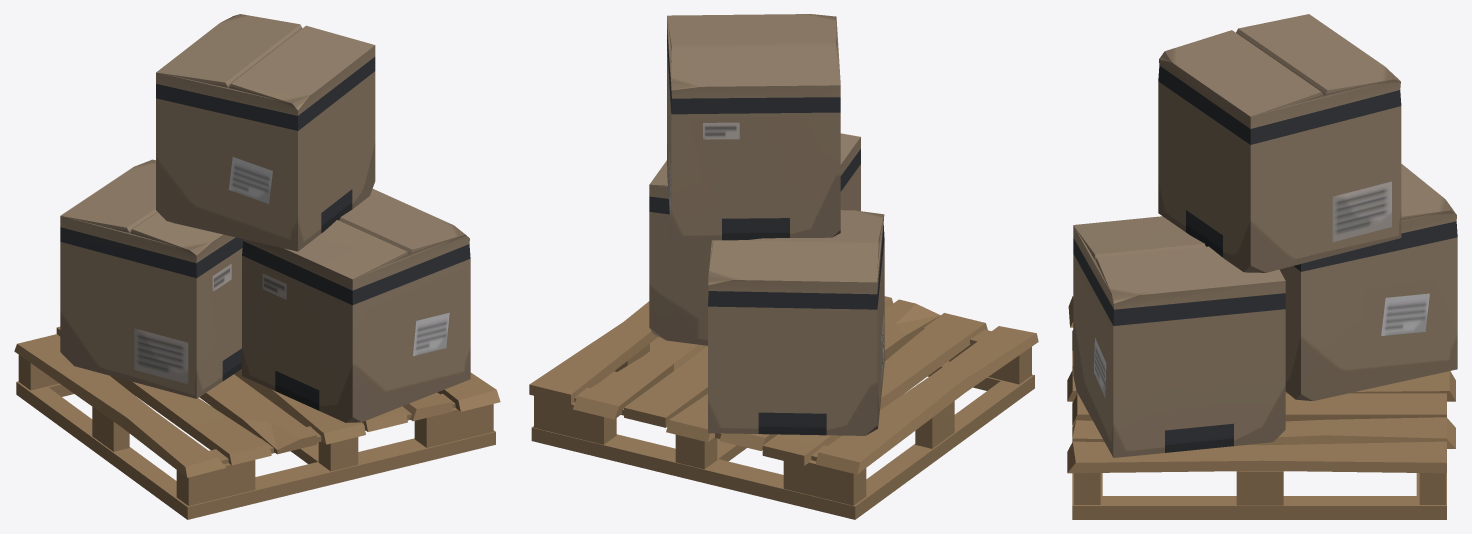
The model's file is SM_Prop_CardboardBox_Stack_03.obj.
3 renders of one model, left to right at view 1: azimuth 30°, elevation 25°; view 2: azimuth 150°, elevation 25°; view 3: azimuth 270°, elevation 25°, orthographic. The views are drawn at different scales.
Parts seen in each view (by area): view 1: SM_Prop_CardboardBox_Stack_03_0; view 2: SM_Prop_CardboardBox_Stack_03_0; view 3: SM_Prop_CardboardBox_Stack_03_0.
Boxes of the visible parts, x1,y1,x2,y2 form: SM_Prop_CardboardBox_Stack_03_0: (14, 14, 500, 519); SM_Prop_CardboardBox_Stack_03_0: (529, 14, 1038, 519); SM_Prop_CardboardBox_Stack_03_0: (1067, 14, 1457, 519).
Size of the model in its own units: 1.44 by 1.56 by 1.42.
1 material, 1 textured.
